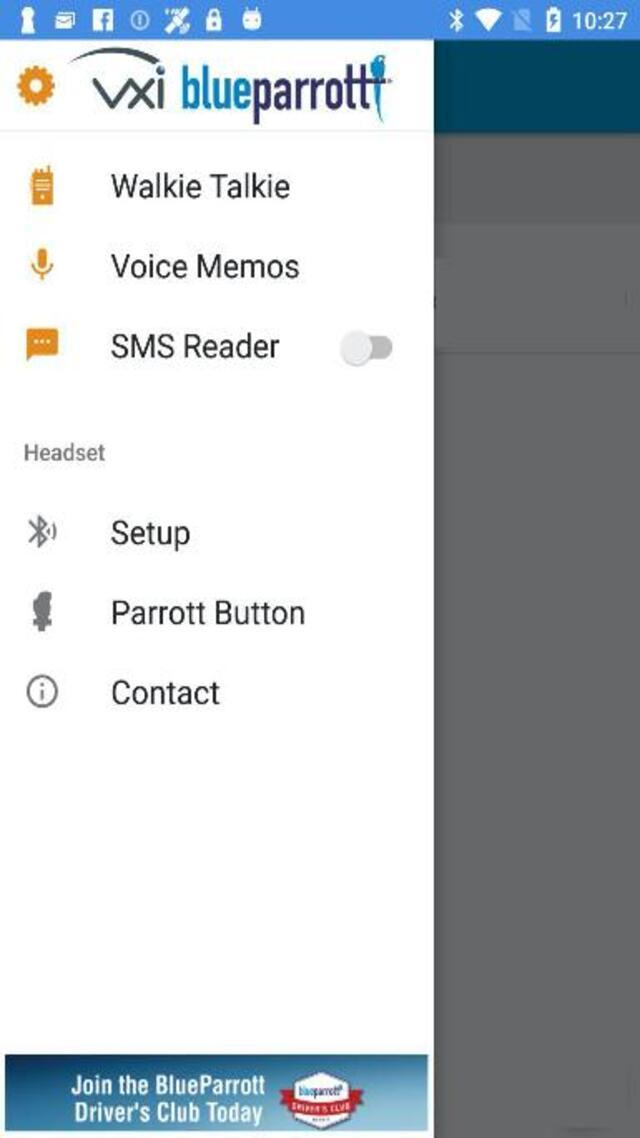CheckedTextView: (338, 327, 394, 369)
Icon: (18, 65, 56, 106), (26, 328, 58, 362), (27, 673, 59, 707), (30, 164, 53, 206), (28, 514, 56, 548), (32, 591, 52, 632), (32, 247, 54, 279)
Image: (4, 1054, 428, 1130), (182, 54, 390, 124), (68, 46, 166, 110)
Text: (112, 598, 304, 625), (110, 252, 298, 278), (110, 331, 280, 359), (110, 172, 290, 198), (112, 679, 220, 704), (112, 519, 190, 551), (24, 442, 106, 462)
